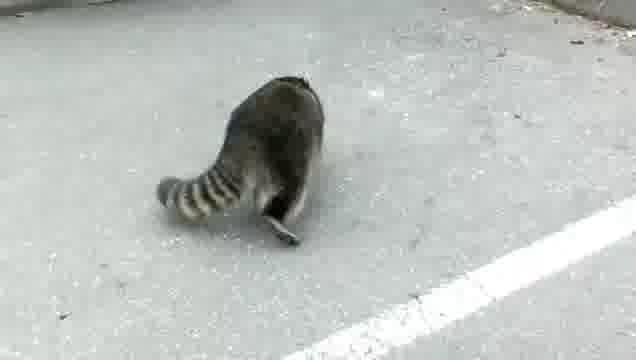raccoon: (150, 70, 324, 249)
